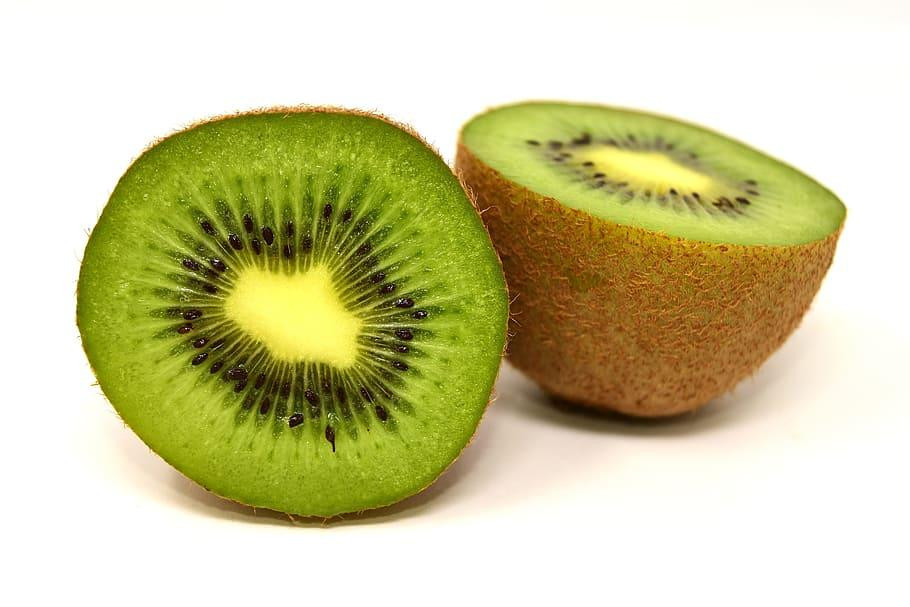kiwi: (62, 102, 512, 537), (455, 89, 848, 434)
